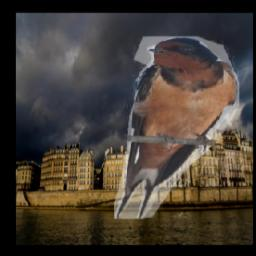Swallow: (115, 37, 240, 220)
